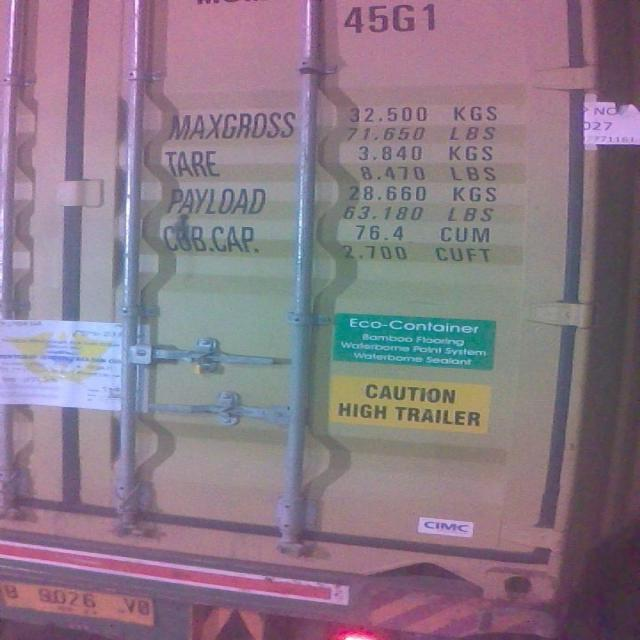seal: (187, 354, 212, 376)
